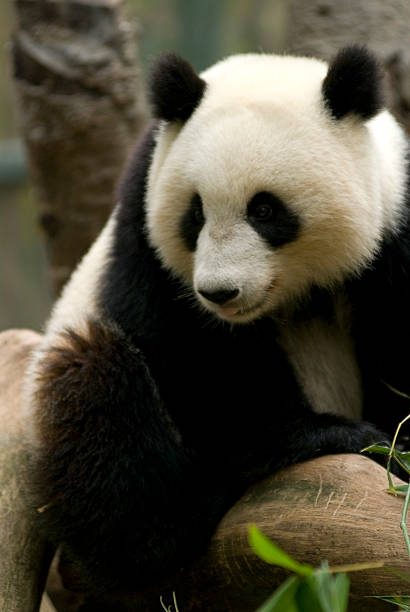panda: (123, 54, 403, 361)
